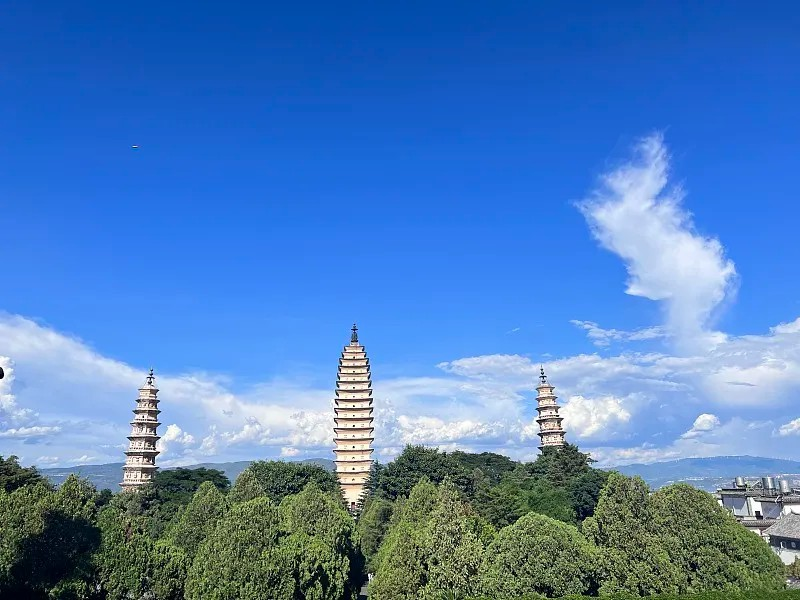ThreePagoda: (332, 324, 374, 510)
